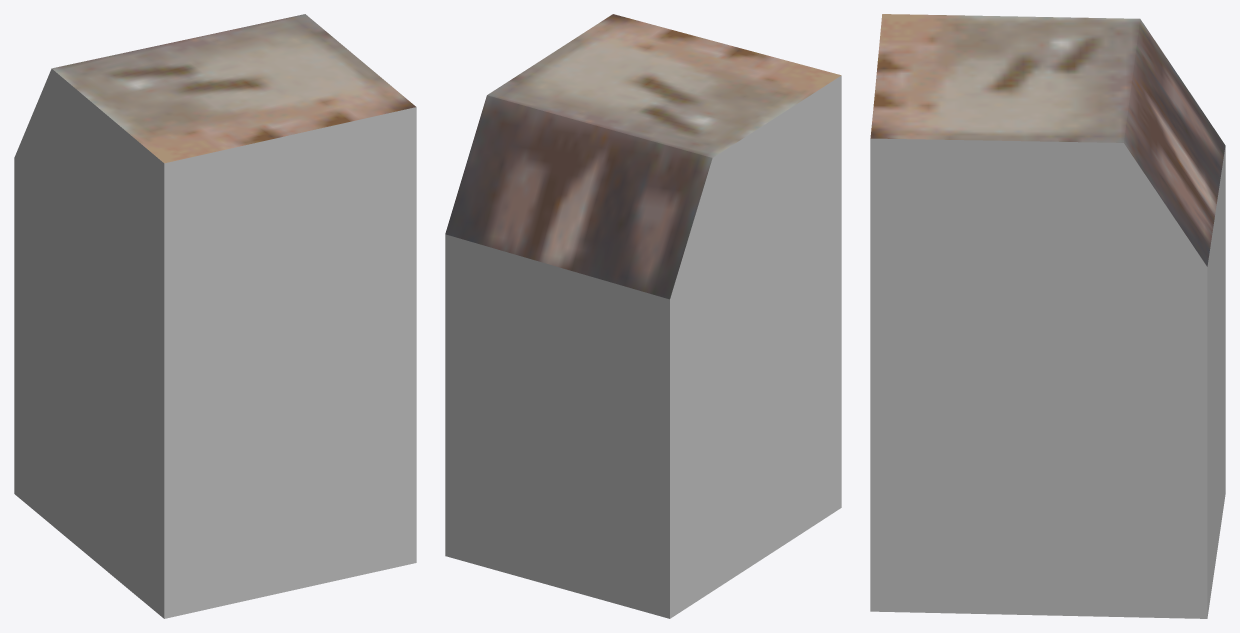
File: DEBW_0010007Tvjy.gltf
3 views of the same model, side by side, from view 1: azimuth 30°, elevation 25°; view 2: azimuth 150°, elevation 25°; view 3: azimuth 270°, elevation 25° (orthographic). The views are drawn at different scales.
Visible parts, largest first — view 1: Z_UP; view 2: Z_UP; view 3: Z_UP.
Part boxes in pixels (bbox=[...]): Z_UP: bbox=[14, 14, 416, 618]; Z_UP: bbox=[445, 14, 841, 618]; Z_UP: bbox=[870, 14, 1225, 618].
Size of the model in its own units: 9.88 by 16.52 by 11.21.
Materials: 2 (1 with a texture image).
